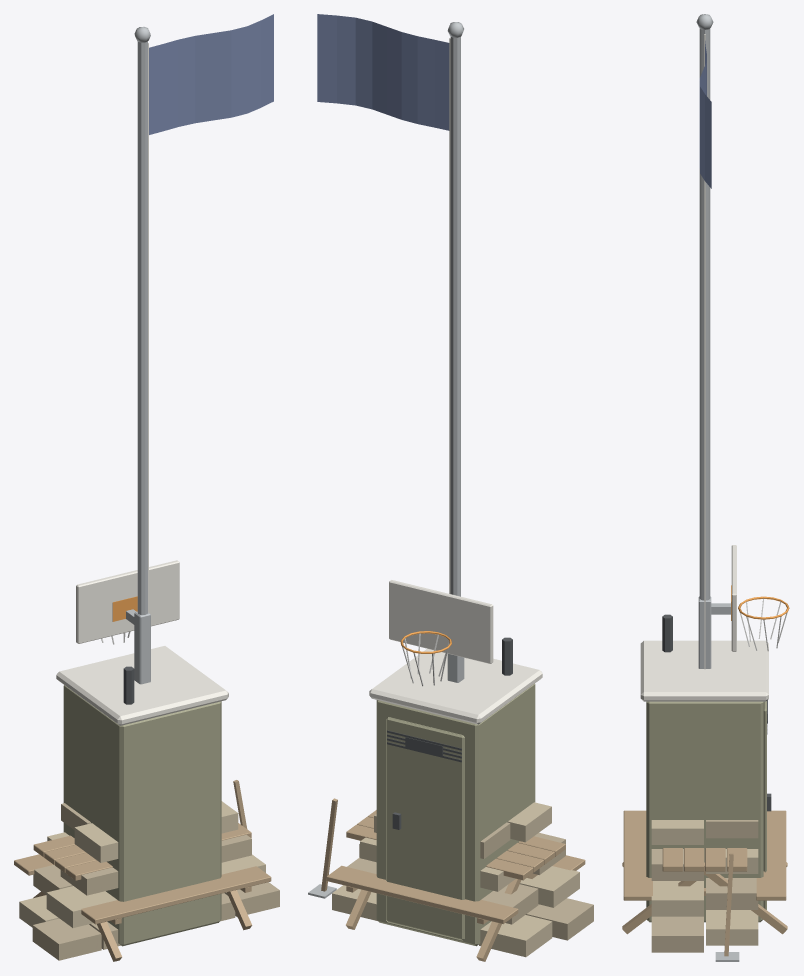
File: hollis_props.glb
3 renders of one model, left to right at view 1: azimuth 30°, elevation 25°; view 2: azimuth 150°, elevation 25°; view 3: azimuth 270°, elevation 25°, orthographic.
Parts seen in each view (by area): view 1: mp_john_mesh, mp_flag_mesh, mp_stack_mesh, mp_hoop_mesh, mp_table_mesh; view 2: mp_john_mesh, mp_flag_mesh, mp_stack_mesh, mp_hoop_mesh, mp_table_mesh; view 3: mp_john_mesh, mp_stack_mesh, mp_table_mesh, mp_flag_mesh, mp_hoop_mesh.
Part boxes in pixels (<box>): mp_john_mesh: <box>56,646,228,946</box>; mp_flag_mesh: <box>134,14,273,614</box>; mp_stack_mesh: <box>19,780,279,960</box>; mp_hoop_mesh: <box>76,560,179,684</box>; mp_table_mesh: <box>14,823,271,961</box>; mp_john_mesh: <box>369,637,542,946</box>; mp_flag_mesh: <box>317,14,463,596</box>; mp_stack_mesh: <box>308,798,593,957</box>; mp_hoop_mesh: <box>389,580,493,686</box>; mp_table_mesh: <box>326,810,585,961</box>; mp_john_mesh: <box>640,614,771,922</box>; mp_stack_mesh: <box>651,820,758,961</box>; mp_table_mesh: <box>622,810,787,934</box>; mp_flag_mesh: <box>696,14,713,669</box>; mp_hoop_mesh: <box>698,545,789,668</box>.
Bounding box in the file's own units: 2.64 × 9.16 × 1.56.
